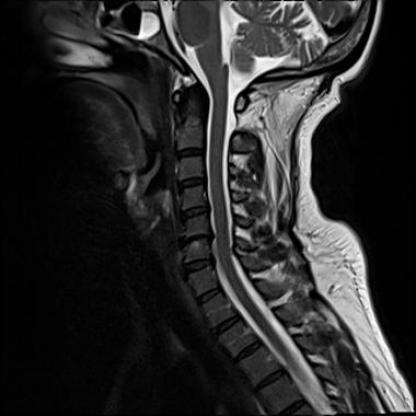Degenerative Disc Diseaserotation: (178, 234, 214, 249)
Disc Bulgerotation: (181, 257, 216, 273)
Disc Protrusionrotation: (177, 233, 213, 248), (178, 205, 209, 220)
